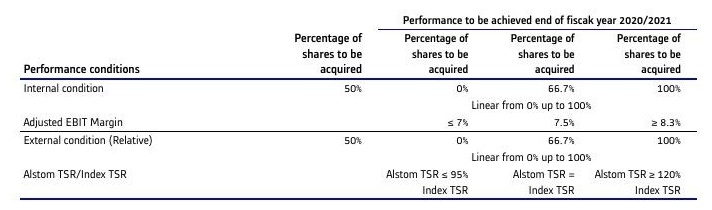table: (0, 0, 712, 210)
